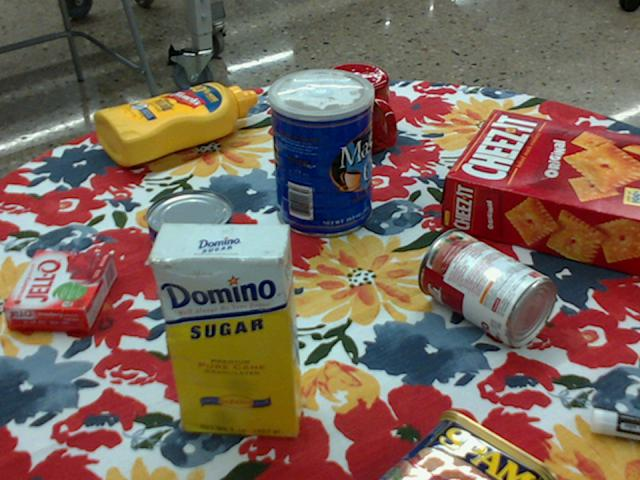cracker_box: (441, 109, 639, 277)
gelatin_box: (4, 253, 117, 335)
large_marker: (592, 406, 639, 438)
master_chef_can: (269, 68, 374, 238)
mug: (316, 63, 396, 156)
mustard_bottle: (92, 83, 255, 165)
potted_meat_can: (380, 409, 563, 479)
sugar_box: (146, 221, 305, 438)
tomato_soup_can: (419, 229, 558, 346)
tuna_fish_can: (144, 190, 232, 263)
